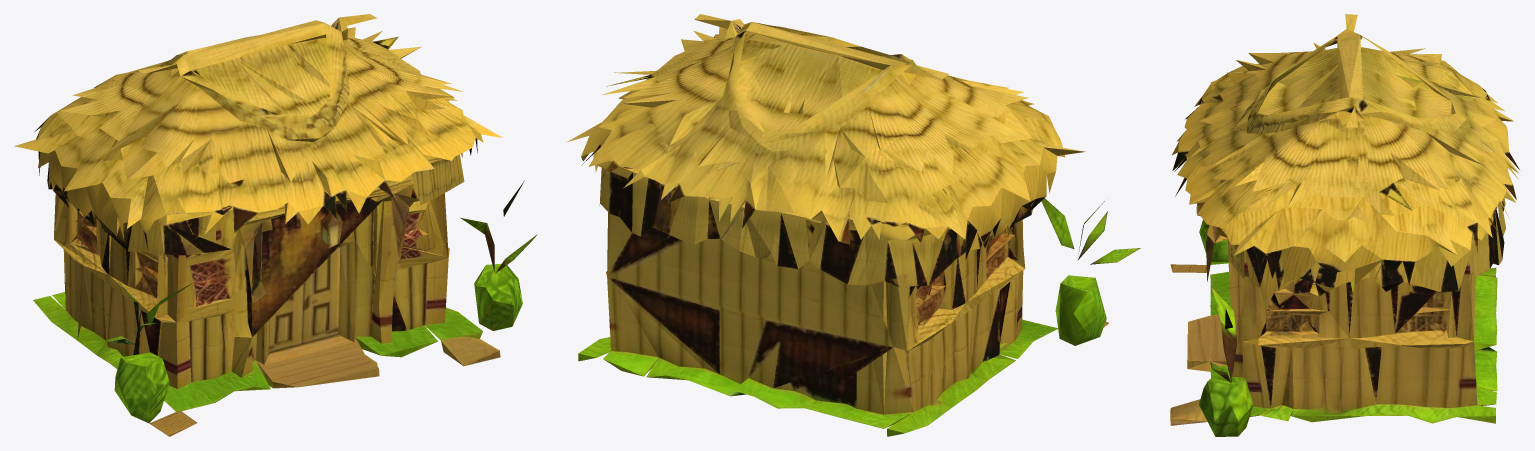
The model's file is home.glb.
3 renders of one model, left to right at view 1: azimuth 30°, elevation 25°; view 2: azimuth 150°, elevation 25°; view 3: azimuth 270°, elevation 25°, orthographic. The views are drawn at different scales.
Bounding box in the file's own units: 1.86 × 1.16 × 1.29.
1 material, 1 textured.
